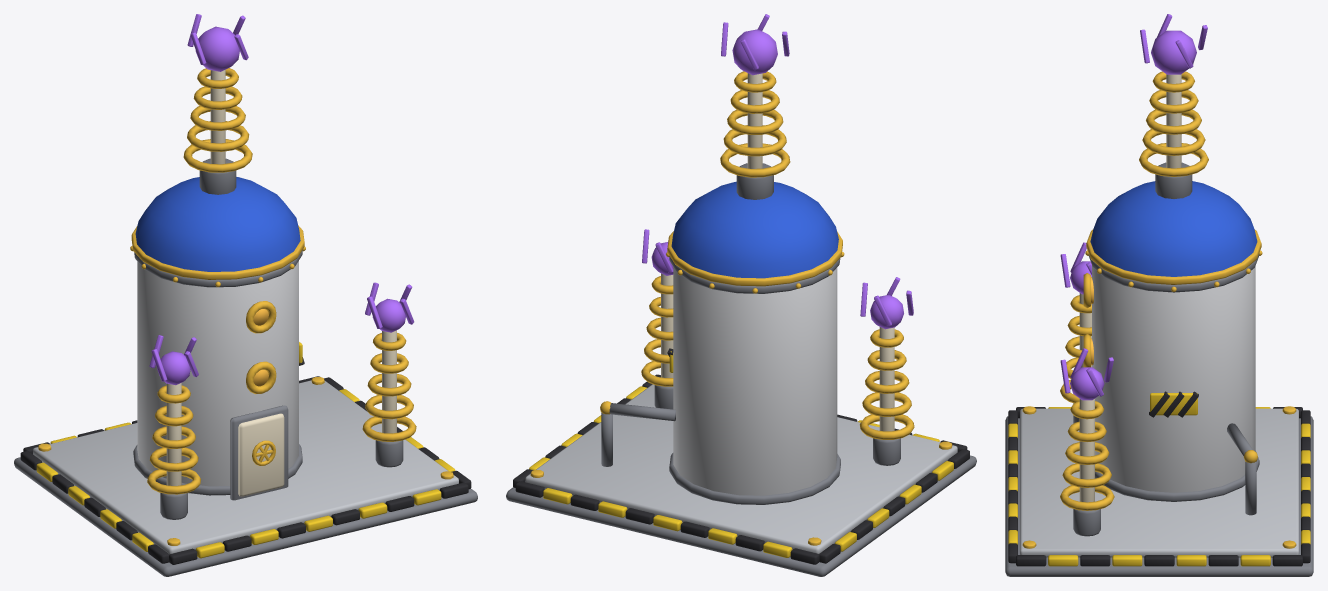
File: ArcaneSanctum.glb
3 renders of one model, left to right at view 1: azimuth 30°, elevation 25°; view 2: azimuth 150°, elevation 25°; view 3: azimuth 270°, elevation 25°, orthographic.
Parts seen in each view (by area): view 1: ArcaneSanctum; view 2: ArcaneSanctum; view 3: ArcaneSanctum.
Part boxes in pixels (x1,y1,x2,y2): ArcaneSanctum: (14, 14, 477, 576); ArcaneSanctum: (506, 14, 976, 576); ArcaneSanctum: (1005, 14, 1313, 576).
Bounding box in the file's own units: 3.8 × 5.31 × 3.2.
